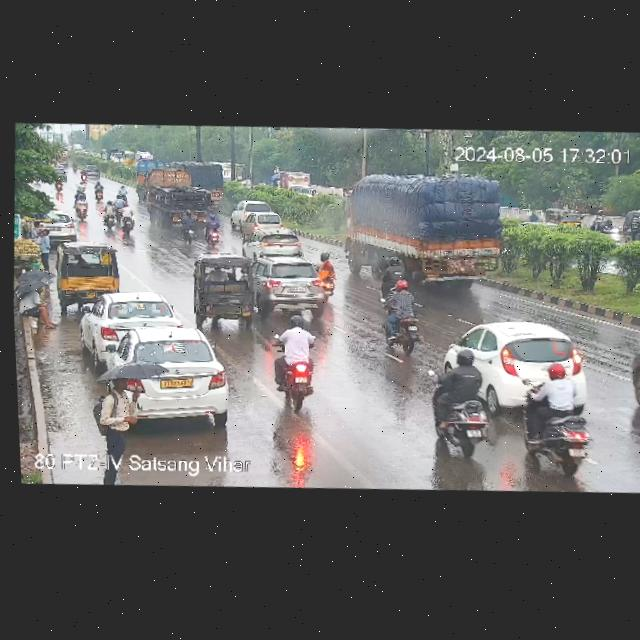car: (95, 322, 236, 431), (453, 319, 593, 407), (78, 288, 192, 352), (190, 251, 261, 326), (250, 256, 333, 314), (56, 242, 127, 305), (230, 197, 288, 235), (241, 229, 307, 260), (538, 206, 586, 231), (46, 210, 81, 242), (626, 208, 640, 241), (54, 168, 68, 180)
motorcycle: (517, 365, 598, 472), (430, 348, 487, 452), (268, 315, 319, 415), (375, 276, 427, 361), (318, 249, 338, 295), (116, 202, 140, 234), (72, 188, 94, 222), (100, 199, 120, 233), (590, 206, 614, 233), (206, 210, 223, 247), (180, 210, 196, 244), (109, 194, 125, 225), (86, 163, 102, 180), (117, 184, 129, 202), (94, 181, 105, 200), (54, 175, 63, 190), (80, 169, 88, 182), (71, 161, 79, 173)
person: (91, 369, 145, 455), (18, 289, 61, 330), (33, 226, 58, 268)
truck: (342, 163, 522, 290), (145, 164, 221, 229), (277, 168, 313, 199)
